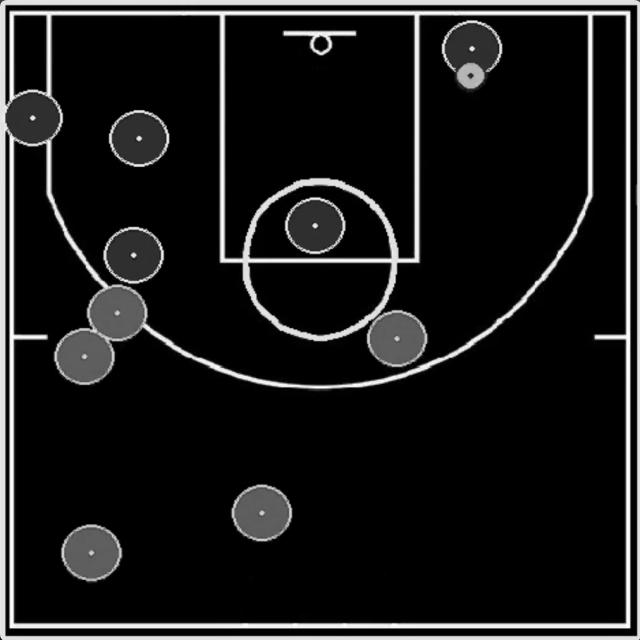Basketball: (455, 62, 487, 92)
Team_A: (109, 110, 169, 168), (442, 20, 502, 77), (285, 198, 345, 254), (104, 228, 164, 284), (4, 90, 63, 146)
Team_B: (367, 310, 427, 368), (61, 524, 122, 581), (231, 485, 293, 541), (88, 285, 148, 341), (55, 330, 114, 386)
